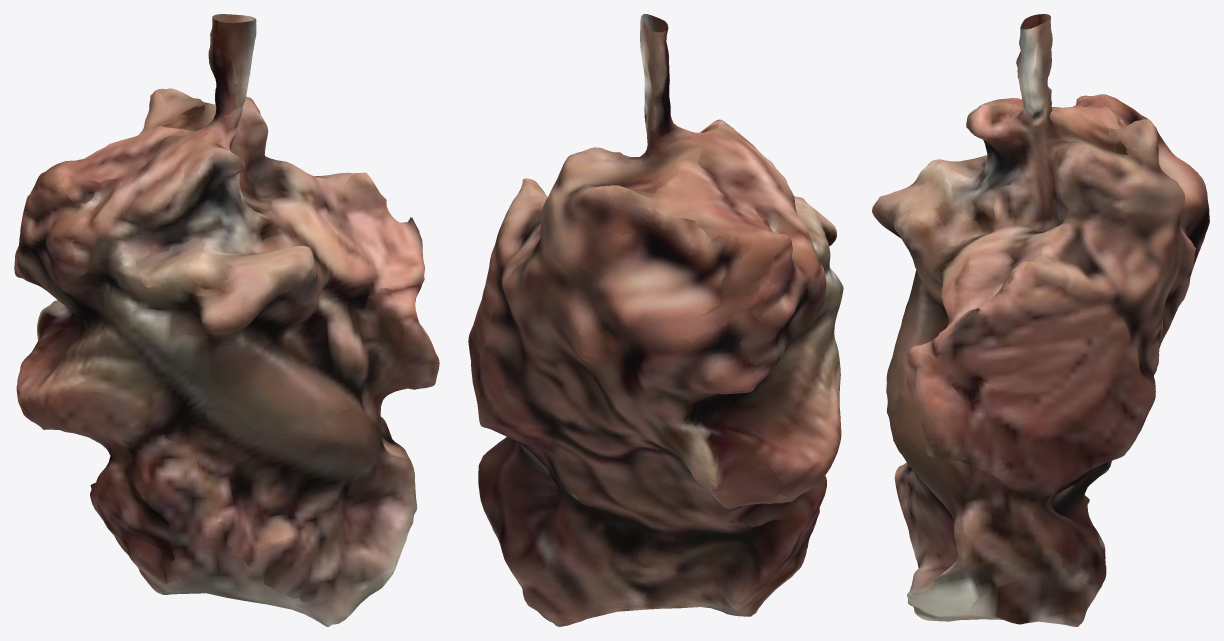
File: porc3.glb
3 renders of one model, left to right at view 1: azimuth 30°, elevation 25°; view 2: azimuth 150°, elevation 25°; view 3: azimuth 270°, elevation 25°, orthographic. The views are drawn at different scales.
Visible parts, largest first — view 1: Object_2; view 2: Object_2; view 3: Object_2.
Part boxes in pixels (<box>): Object_2: <box>14,14,439,626</box>; Object_2: <box>468,14,843,626</box>; Object_2: <box>872,14,1209,626</box>.
Bounding box in the file's own units: 0.057 × 0.0895 × 0.0476.
Materials: 1 (1 with a texture image).
